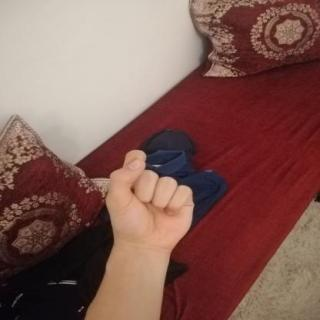FAA: (93, 143, 207, 257)
